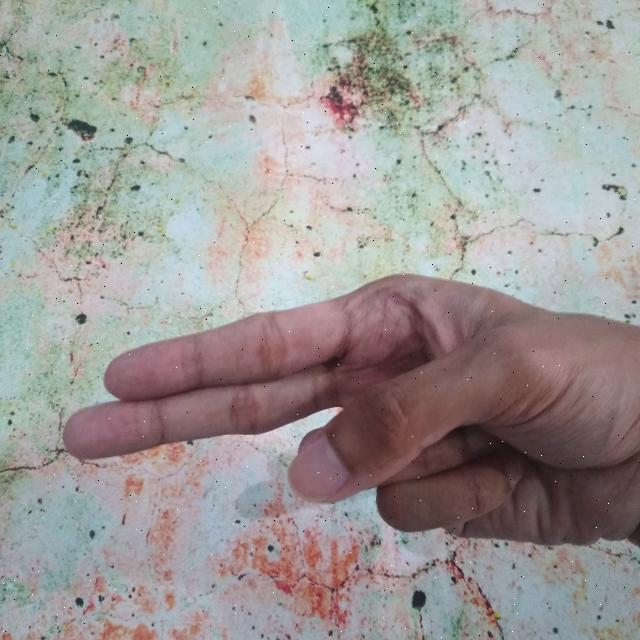H: (62, 266, 640, 556)
